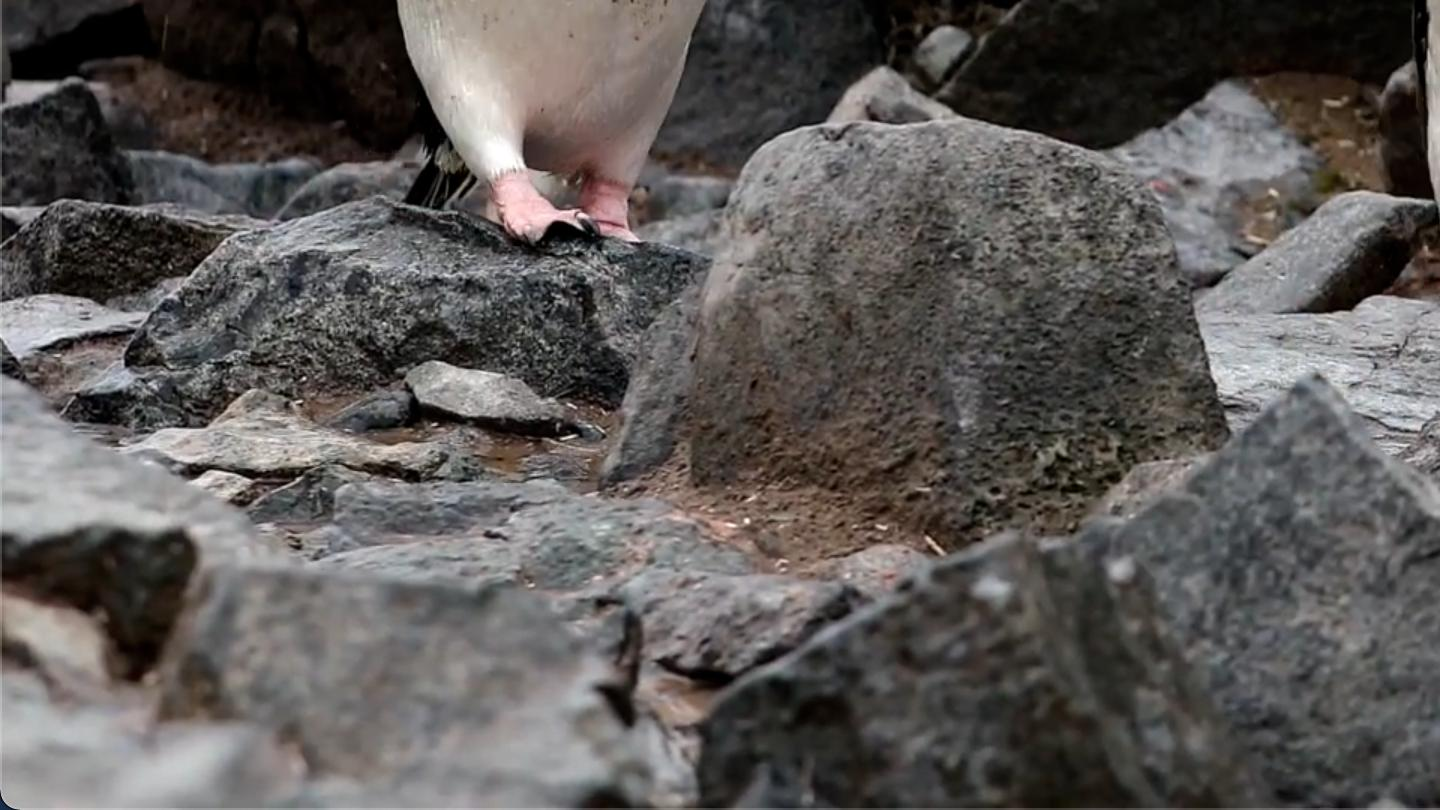Chinstrap Penguin: (122, 0, 914, 250), (1071, 0, 1440, 476)
